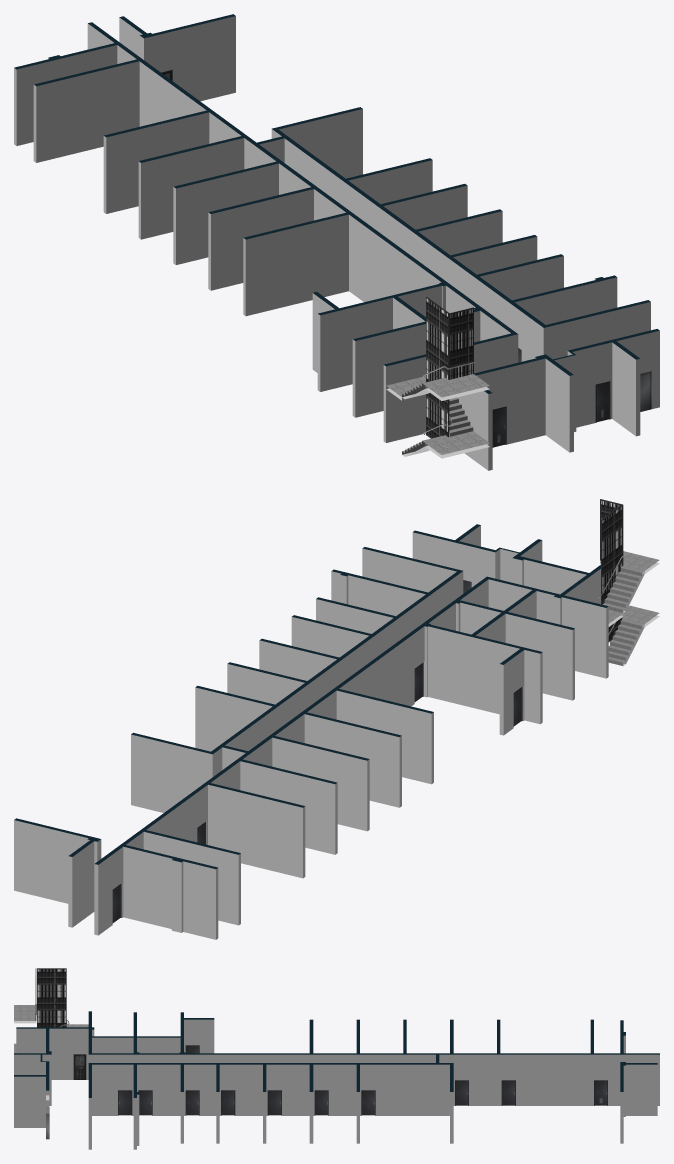
File: hkjls_hkjls_f05_in_T005.obj
The picture shows the model from 3 angles, top to bottom: view 1: azimuth 30°, elevation 25°; view 2: azimuth 150°, elevation 25°; view 3: azimuth 270°, elevation 25°; orthographic projection. The views are drawn at different scales.
Visible parts, largest first — view 1: hkjls_hkjls_f05_in_001_H005, hkjls_hkjls_f05_in_004_H005, hkjls_hkjls_f05_in_005_H005, hkjls_hkjls_f05_in_008_H005, hkjls_hkjls_f05_in_007_H005, hkjls_hkjls_f05_in_002_H005; view 2: hkjls_hkjls_f05_in_001_H005, hkjls_hkjls_f05_in_004_H005, hkjls_hkjls_f05_in_007_H005, hkjls_hkjls_f05_in_005_H005, hkjls_hkjls_f05_in_008_H005, hkjls_hkjls_f05_in_002_H005; view 3: hkjls_hkjls_f05_in_001_H005, hkjls_hkjls_f05_in_004_H005, hkjls_hkjls_f05_in_005_H005, hkjls_hkjls_f05_in_002_H005, hkjls_hkjls_f05_in_008_H005, hkjls_hkjls_f05_in_015_r_T001, hkjls_hkjls_f05_in_016_r_T001, hkjls_hkjls_f05_in_014_r_T001, hkjls_hkjls_f05_in_005_r_T001, hkjls_hkjls_f05_in_009_l_T001, hkjls_hkjls_f05_in_008_l_T001, hkjls_hkjls_f05_in_011_l_T001 (+4 smaller).
Boxes of the visible parts, x1,y1,x2,y2 form: hkjls_hkjls_f05_in_001_H005: (14, 16, 659, 470); hkjls_hkjls_f05_in_004_H005: (14, 14, 659, 393); hkjls_hkjls_f05_in_005_H005: (426, 298, 472, 438); hkjls_hkjls_f05_in_008_H005: (386, 374, 489, 454); hkjls_hkjls_f05_in_007_H005: (402, 377, 473, 454); hkjls_hkjls_f05_in_002_H005: (161, 70, 610, 447); hkjls_hkjls_f05_in_001_H005: (14, 525, 659, 939); hkjls_hkjls_f05_in_004_H005: (14, 524, 608, 869); hkjls_hkjls_f05_in_007_H005: (602, 566, 644, 665); hkjls_hkjls_f05_in_005_H005: (601, 500, 621, 642); hkjls_hkjls_f05_in_008_H005: (608, 551, 659, 623); hkjls_hkjls_f05_in_002_H005: (120, 499, 623, 917); hkjls_hkjls_f05_in_001_H005: (14, 1012, 659, 1149); hkjls_hkjls_f05_in_004_H005: (14, 1011, 659, 1097); hkjls_hkjls_f05_in_005_H005: (37, 969, 65, 1027); hkjls_hkjls_f05_in_002_H005: (35, 968, 607, 1115); hkjls_hkjls_f05_in_008_H005: (14, 1005, 88, 1053); hkjls_hkjls_f05_in_015_r_T001: (502, 1080, 515, 1105); hkjls_hkjls_f05_in_016_r_T001: (455, 1080, 468, 1105); hkjls_hkjls_f05_in_014_r_T001: (594, 1080, 607, 1105); hkjls_hkjls_f05_in_005_r_T001: (118, 1090, 131, 1115); hkjls_hkjls_f05_in_009_l_T001: (268, 1090, 281, 1115); hkjls_hkjls_f05_in_008_l_T001: (221, 1090, 234, 1115); hkjls_hkjls_f05_in_011_l_T001: (362, 1090, 374, 1115).
Bounding box in the file's own units: 1446 × 795 × 4556.
12 materials, 12 textured.
